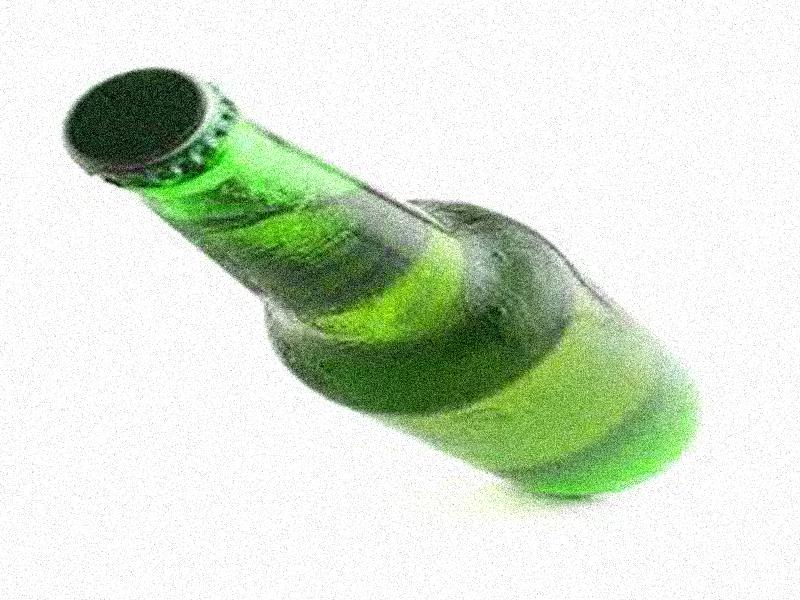Beer: (62, 69, 702, 500)
